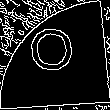O_S: (30, 27, 80, 83)
